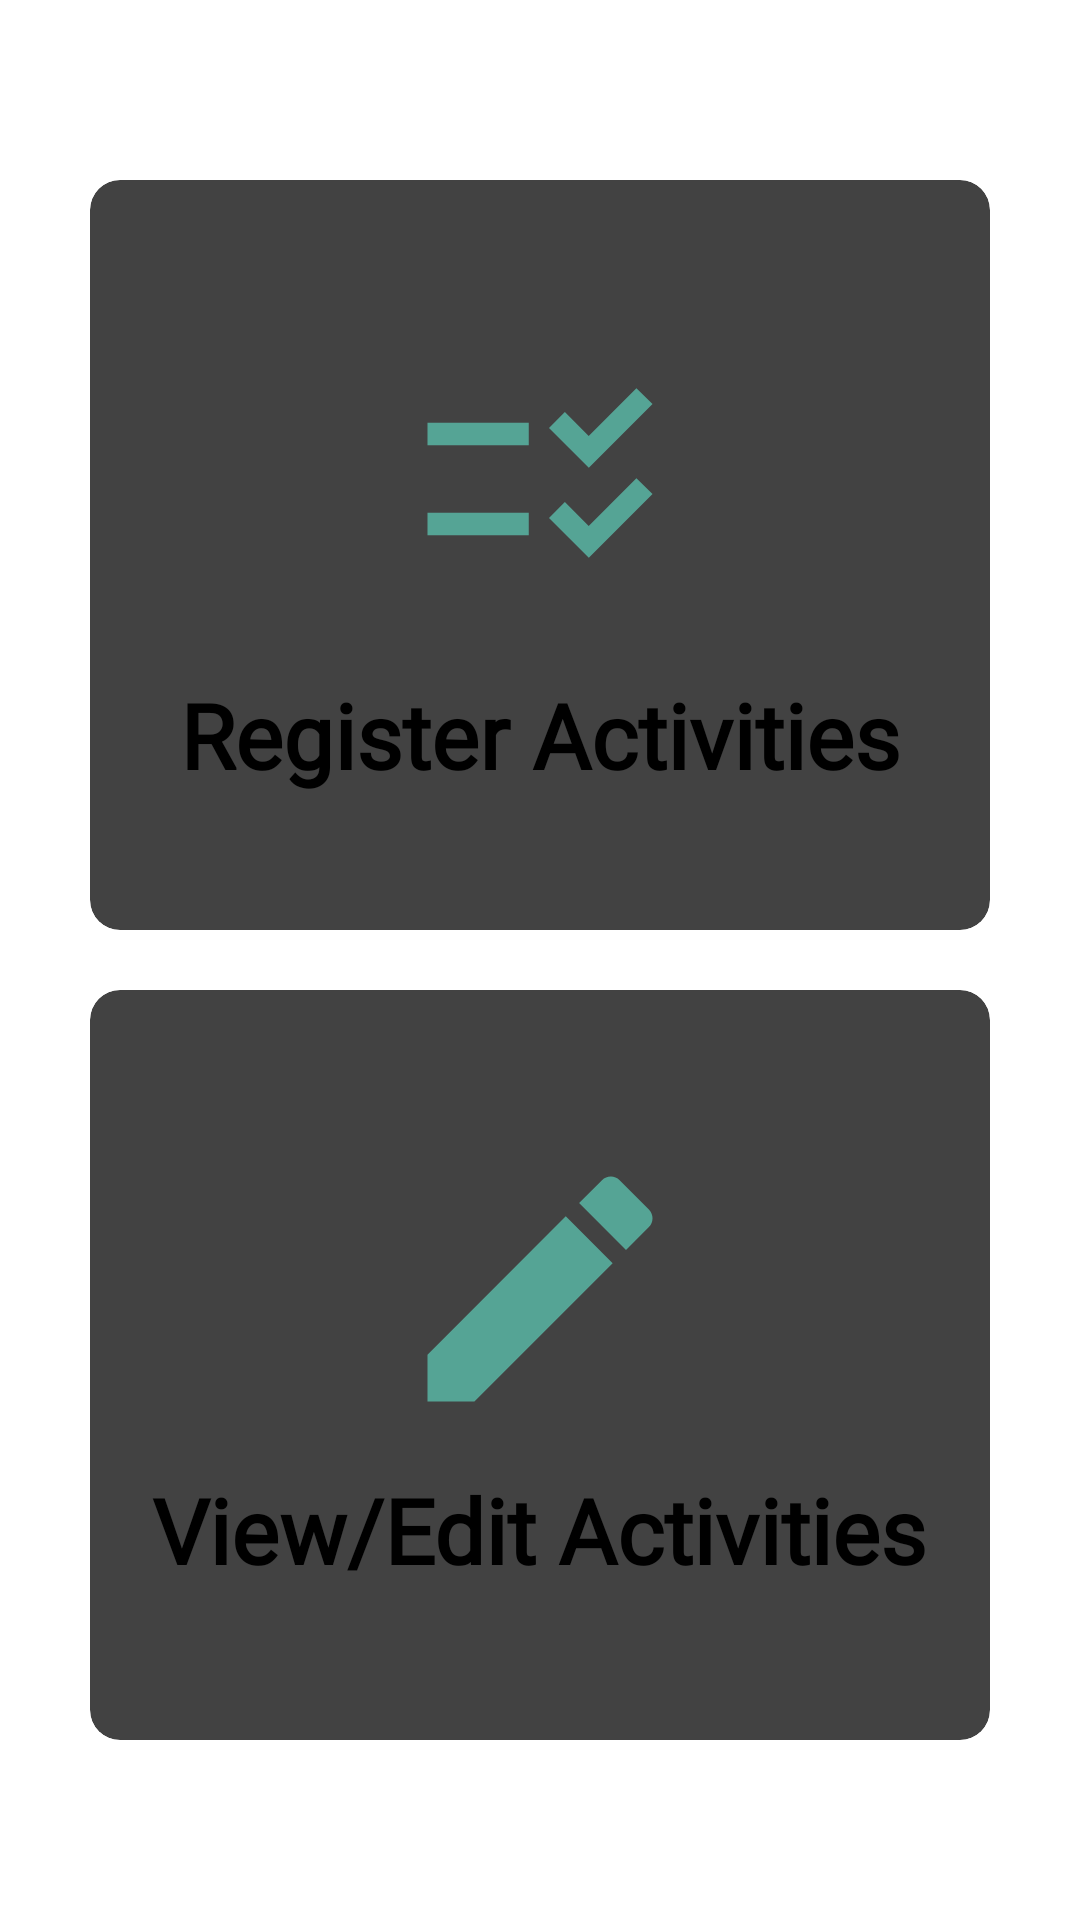

Icon click points for this 1080×1920 phone screenshot, format point (x, y):
checklist: point (539, 473)
